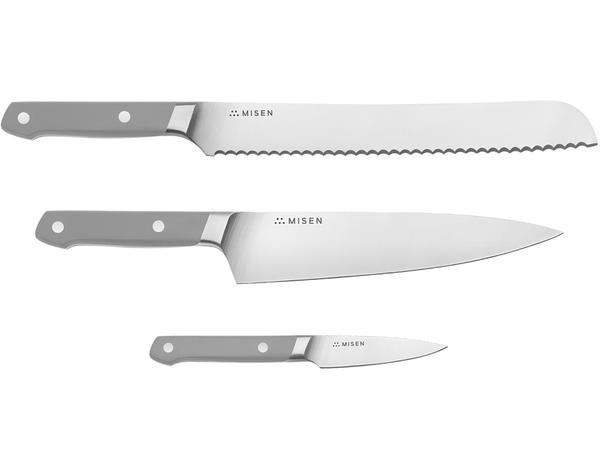knife: (36, 208, 565, 285), (147, 334, 451, 368)
